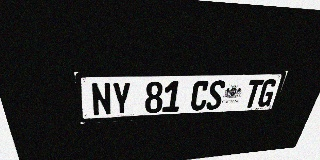1: (162, 81, 182, 112)
8: (145, 81, 164, 113)
C: (190, 80, 210, 111)
G: (256, 79, 278, 107)
N: (90, 82, 112, 116)
S: (205, 80, 226, 110)
T: (243, 79, 264, 108)
Y: (111, 82, 131, 115)
